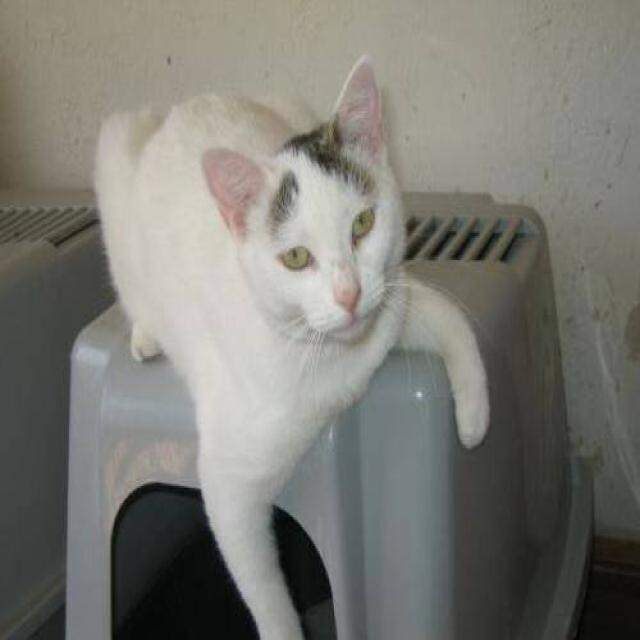cat: (92, 53, 490, 638)
